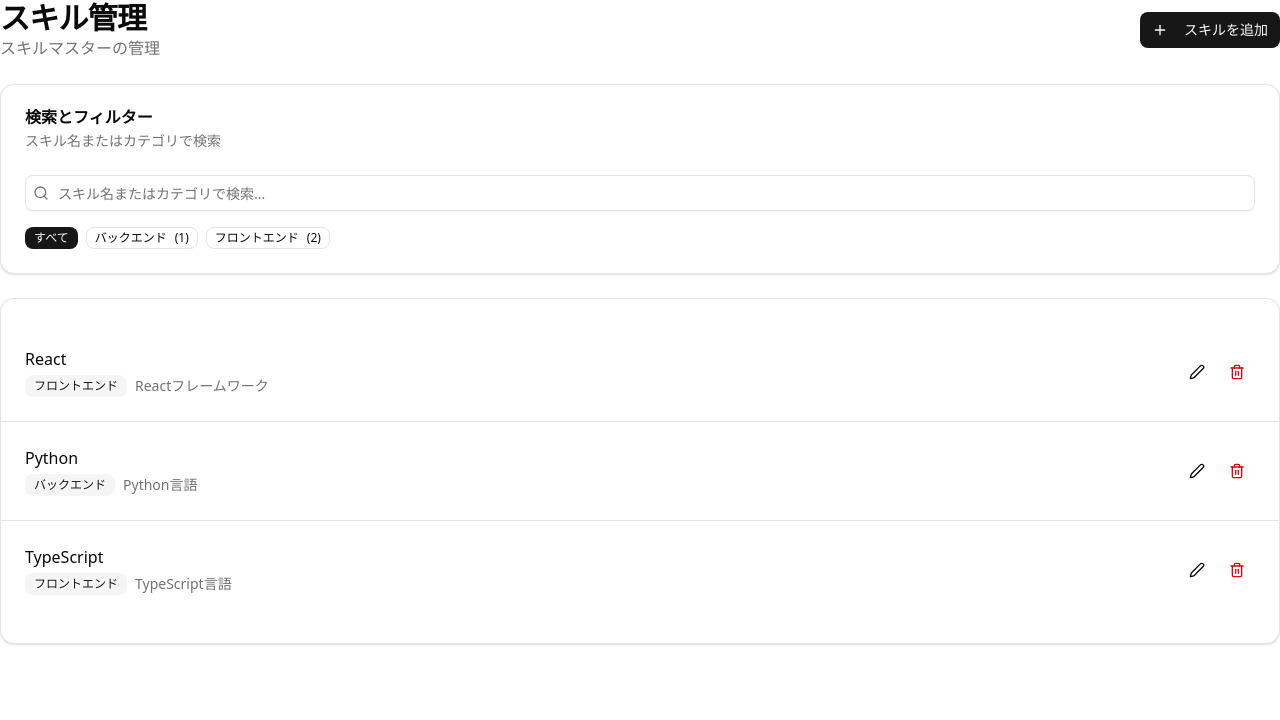
Skills Component › 管理者の場合 › スキル追加モーダルが開く
The width and height of the screenshot is (1280, 720).
Step 1. Click the button "スキルを追加" → (1210, 30), box [1140, 12, 1279, 48]
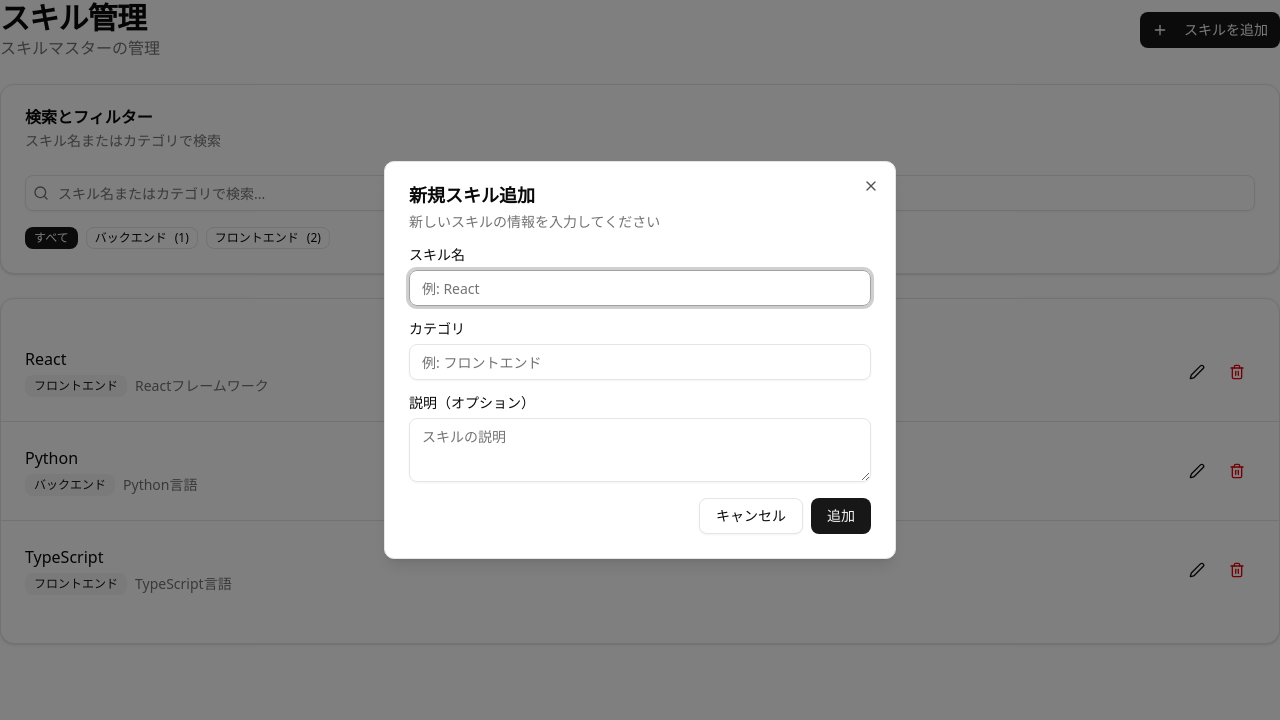
Check: the heading "新規スキル追加" is shown, box [409, 183, 535, 207]
Check: the field with placeholder "例: React" is shown, box [409, 270, 871, 306]
Check: the field with placeholder "例: フロントエンド" is shown, box [409, 344, 871, 380]
